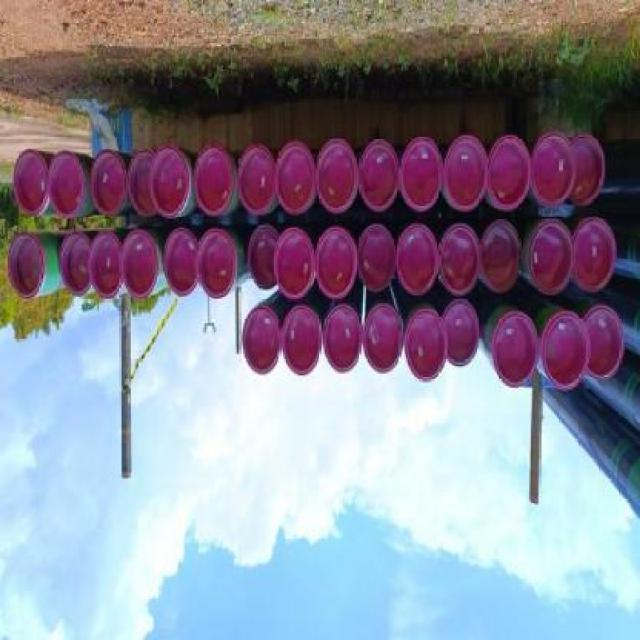pipe: (540, 308, 589, 391), (492, 309, 540, 391), (148, 139, 193, 224), (528, 219, 576, 296), (316, 135, 359, 220), (571, 217, 617, 296), (533, 132, 579, 211), (488, 137, 534, 216), (443, 134, 489, 213), (399, 135, 445, 214), (583, 303, 626, 385), (480, 220, 525, 296), (395, 225, 440, 299), (437, 225, 482, 299), (275, 142, 317, 221), (405, 309, 448, 386), (196, 137, 236, 219), (274, 226, 317, 302), (359, 138, 402, 214), (119, 231, 162, 305), (237, 139, 276, 220), (315, 228, 357, 299), (6, 234, 49, 303), (10, 148, 53, 217), (363, 305, 405, 374), (323, 307, 365, 376), (282, 308, 324, 377), (46, 150, 88, 219), (198, 226, 237, 300), (163, 226, 202, 299), (241, 307, 282, 376), (442, 299, 482, 368), (568, 136, 608, 205), (91, 151, 128, 222), (359, 225, 396, 294), (59, 229, 96, 297), (88, 232, 125, 300), (248, 223, 282, 291), (130, 146, 156, 222)
